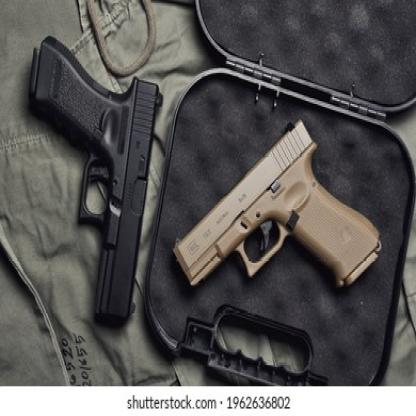handgun: (31, 26, 387, 354)
